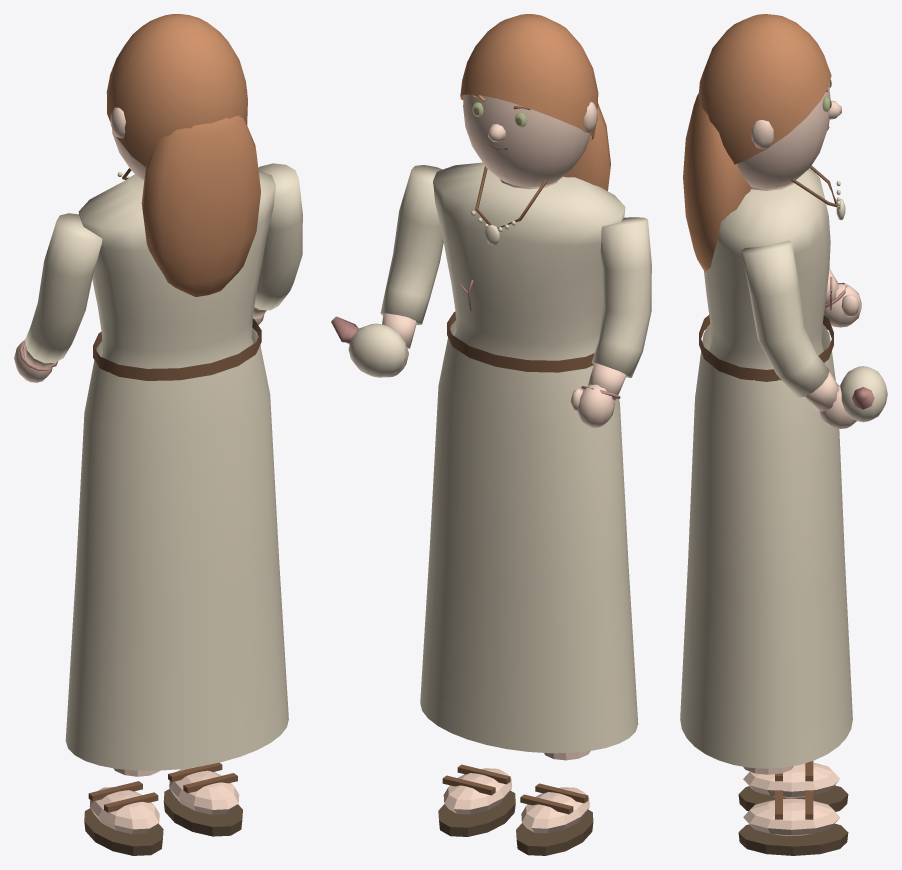
File: SM_NPC_CORAL_ROSA.glb
3 views of the same model, side by side, from view 1: azimuth 30°, elevation 25°; view 2: azimuth 150°, elevation 25°; view 3: azimuth 270°, elevation 25° (orthographic). The views are drawn at different scales.
Visible parts, largest first — view 1: SM_NPC_CORAL_ROSA_BODY, SM_NPC_CORAL_ROSA_HAIR, SM_NPC_CORAL_ROSA_ARM_L, SM_NPC_CORAL_ROSA_ARM_R, SM_NPC_CORAL_ROSA_LEG_L, SM_NPC_CORAL_ROSA_LEG_R, SM_NPC_CORAL_ROSA_HEAD; view 2: SM_NPC_CORAL_ROSA_BODY, SM_NPC_CORAL_ROSA_HAIR, SM_NPC_CORAL_ROSA_ARM_R, SM_NPC_CORAL_ROSA_ARM_L, SM_NPC_CORAL_ROSA_HEAD, SM_NPC_CORAL_ROSA_LEG_L, SM_NPC_CORAL_ROSA_LEG_R; view 3: SM_NPC_CORAL_ROSA_BODY, SM_NPC_CORAL_ROSA_HAIR, SM_NPC_CORAL_ROSA_ARM_R, SM_NPC_CORAL_ROSA_LEG_R, SM_NPC_CORAL_ROSA_HEAD, SM_NPC_CORAL_ROSA_LEG_L, SM_NPC_CORAL_ROSA_ARM_L.
Part boxes in pixels (box(x1,y1,x2,y2)): SM_NPC_CORAL_ROSA_BODY: box(65, 168, 288, 770); SM_NPC_CORAL_ROSA_HAIR: box(106, 14, 260, 296); SM_NPC_CORAL_ROSA_ARM_L: box(14, 213, 102, 382); SM_NPC_CORAL_ROSA_ARM_R: box(253, 163, 302, 324); SM_NPC_CORAL_ROSA_LEG_L: box(84, 768, 163, 855); SM_NPC_CORAL_ROSA_LEG_R: box(163, 762, 242, 836); SM_NPC_CORAL_ROSA_HEAD: box(110, 90, 247, 181); SM_NPC_CORAL_ROSA_BODY: box(420, 162, 638, 753); SM_NPC_CORAL_ROSA_HAIR: box(460, 14, 610, 190); SM_NPC_CORAL_ROSA_ARM_R: box(331, 165, 443, 377); SM_NPC_CORAL_ROSA_ARM_L: box(570, 217, 651, 427); SM_NPC_CORAL_ROSA_HEAD: box(463, 94, 597, 186); SM_NPC_CORAL_ROSA_LEG_L: box(516, 751, 593, 855); SM_NPC_CORAL_ROSA_LEG_R: box(438, 764, 515, 836); SM_NPC_CORAL_ROSA_BODY: box(680, 165, 852, 768); SM_NPC_CORAL_ROSA_HAIR: box(683, 14, 831, 273); SM_NPC_CORAL_ROSA_ARM_R: box(741, 240, 887, 428); SM_NPC_CORAL_ROSA_LEG_R: box(738, 766, 848, 855); SM_NPC_CORAL_ROSA_HEAD: box(737, 86, 841, 188); SM_NPC_CORAL_ROSA_LEG_L: box(738, 761, 848, 811); SM_NPC_CORAL_ROSA_ARM_L: box(824, 268, 861, 327).
Size of the model in its own units: 0.6556 by 1.81 by 0.4243.
